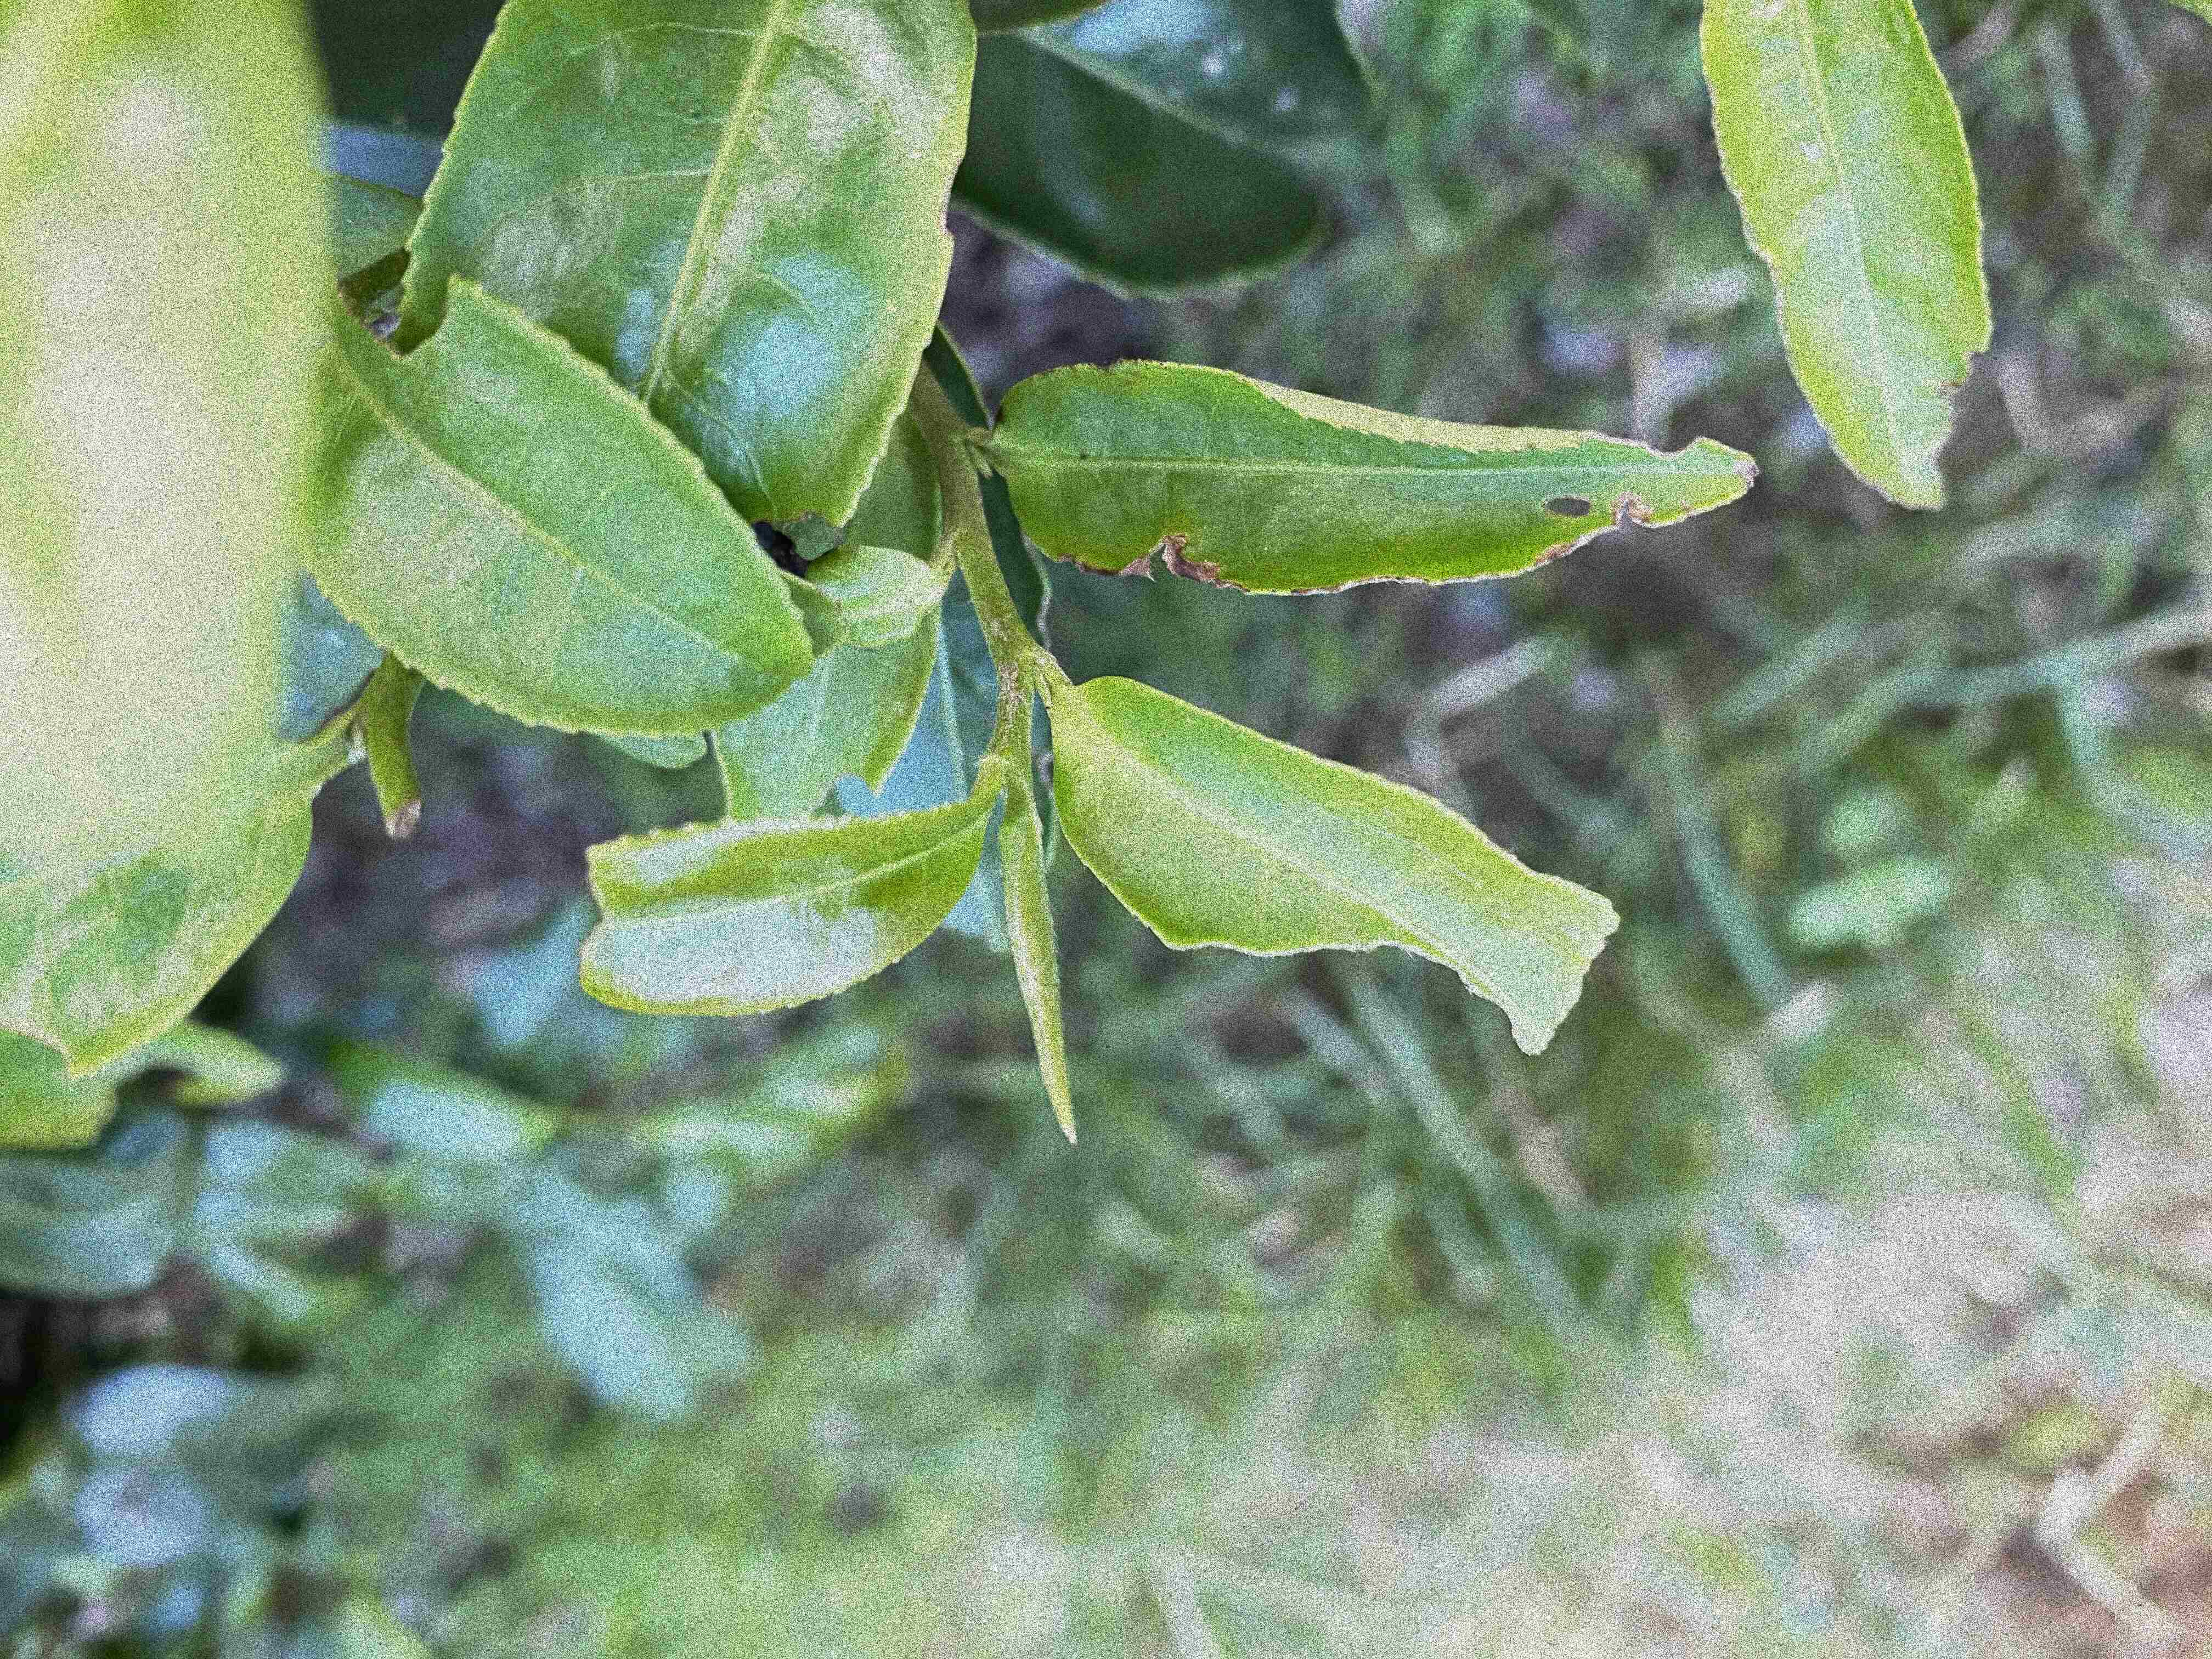chihuo_high: (1054, 674, 1623, 1054)
chihuo_low: (287, 267, 815, 742), (982, 342, 1763, 605), (1696, 3, 1994, 514), (570, 784, 1000, 1019)
